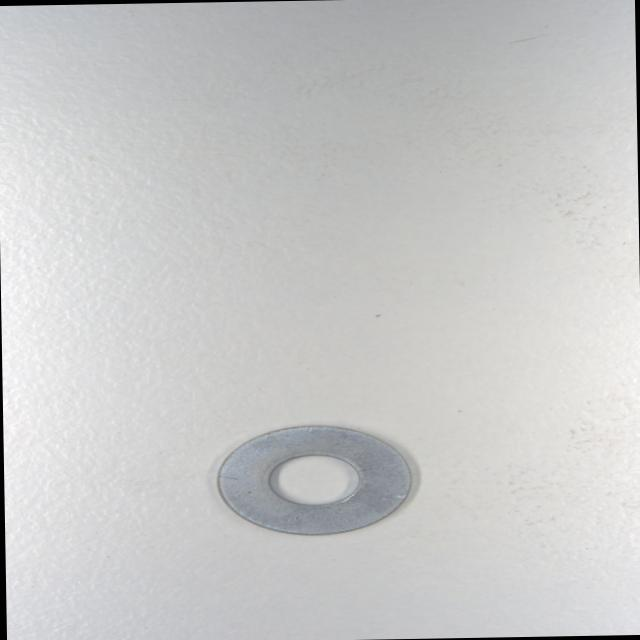washer: (210, 419, 418, 538)
